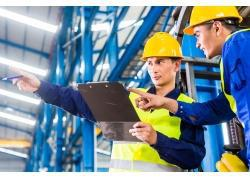helmet: (185, 5, 246, 59), (138, 28, 184, 87)
